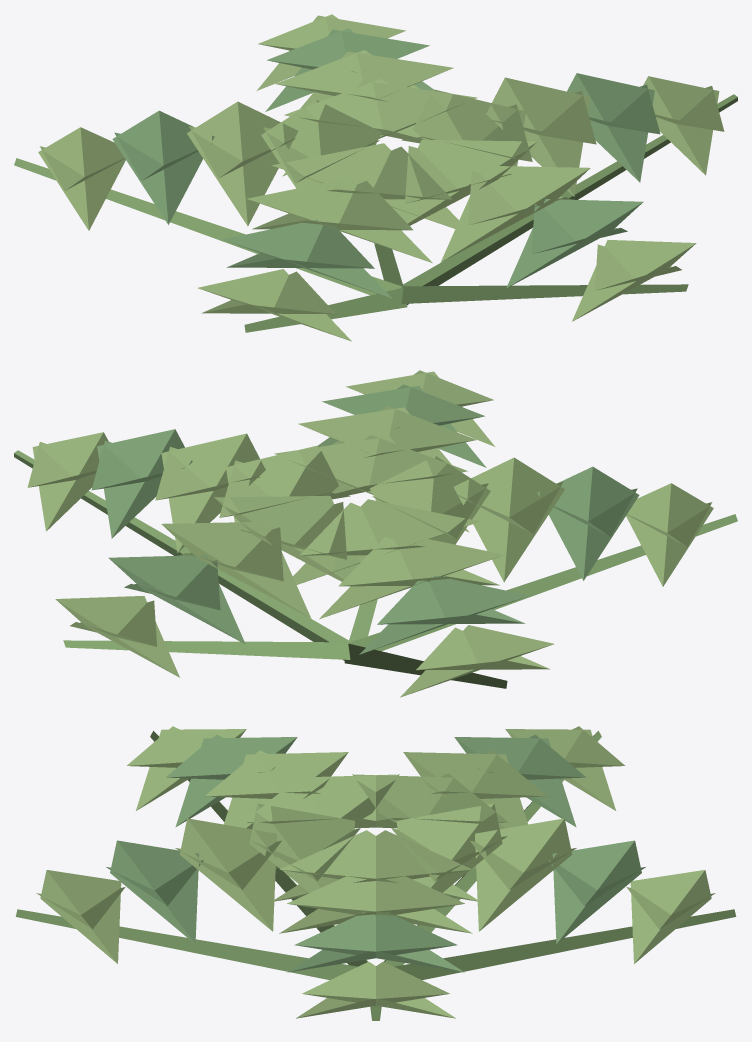
The picture shows the model from 3 angles, top to bottom: view 1: azimuth 30°, elevation 25°; view 2: azimuth 150°, elevation 25°; view 3: azimuth 270°, elevation 25°; orthographic projection. The views are drawn at different scales.
Parts seen in each view (by area): view 1: Body; view 2: Body; view 3: Body.
Boxes of the visible parts, x1=… form: Body: x1=14, y1=14, x2=737, y2=341; Body: x1=14, y1=370, x2=737, y2=697; Body: x1=15, y1=726, x2=736, y2=1020.
Size of the model in its own units: 1.51 by 0.4031 by 1.59.
